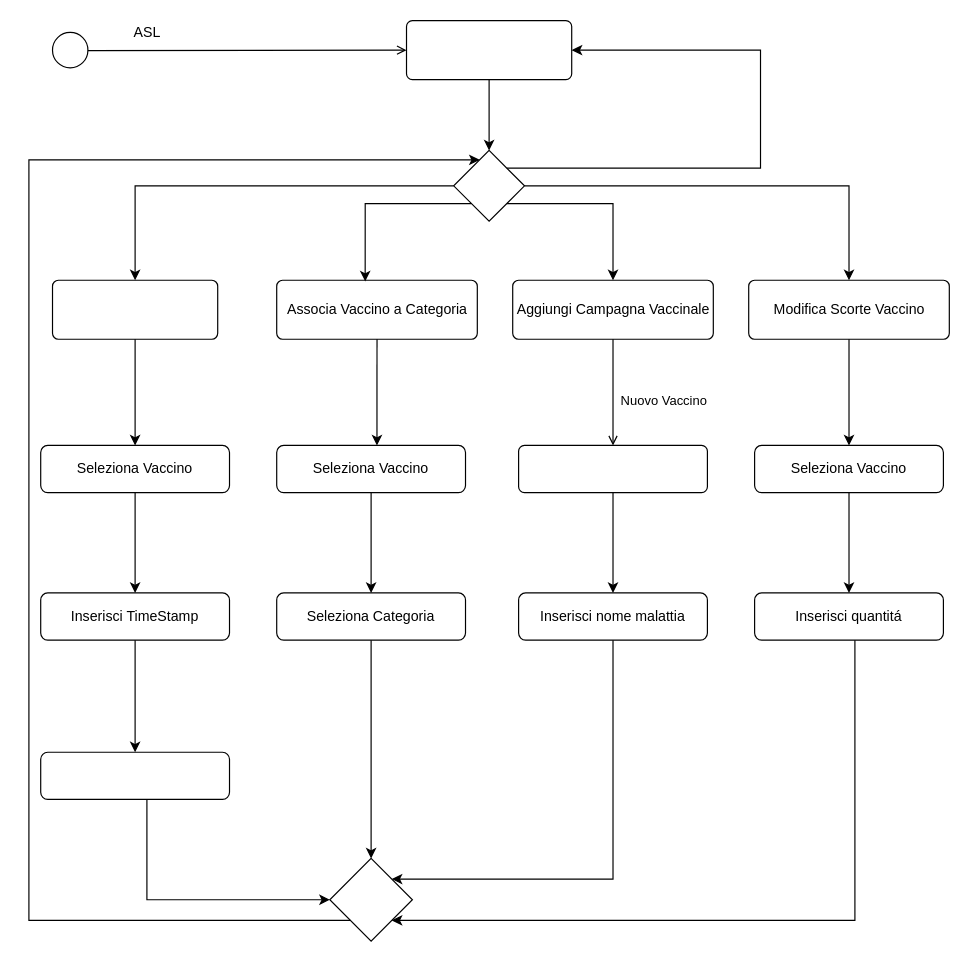
Image size: 970x962. Some labels were removed from this diagram. Here are the shapes that lost their labels. From the top down, the centre of each, then its label:
point (488, 49): Inserimento Credenziali
point (134, 309): Aggiungi Disponibilitá
point (612, 468): Inserisci Dati Vaccino
point (135, 775): Inserisci Nome Ambulatorio
